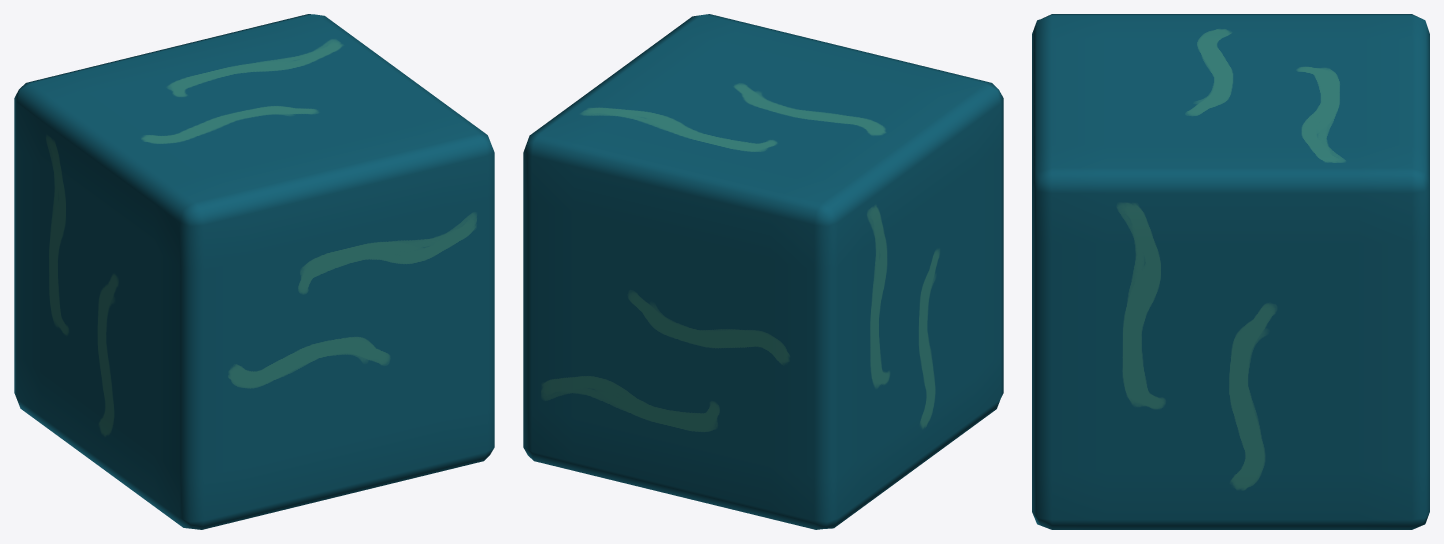
The model's file is SM_floor_water.fbx.
The picture shows the model from 3 angles, left to right: view 1: azimuth 30°, elevation 25°; view 2: azimuth 150°, elevation 25°; view 3: azimuth 270°, elevation 25°; orthographic projection. The views are drawn at different scales.
Visible parts, largest first — view 1: SM_water; view 2: SM_water; view 3: SM_water.
Part boxes in pixels (x1,y1,x2,y2): SM_water: (14, 14, 494, 529); SM_water: (523, 14, 1003, 529); SM_water: (1032, 14, 1429, 529).
Size of the model in its own units: 100 by 100 by 100.
